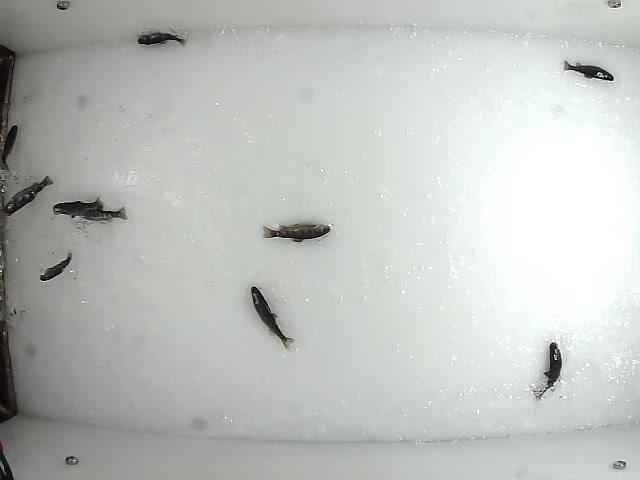fish: (250, 285, 297, 350), (1, 171, 56, 219), (528, 339, 564, 402), (259, 221, 333, 243), (50, 193, 106, 218), (560, 60, 617, 83), (37, 249, 76, 282), (134, 30, 189, 49), (76, 204, 131, 223), (1, 122, 19, 172)
